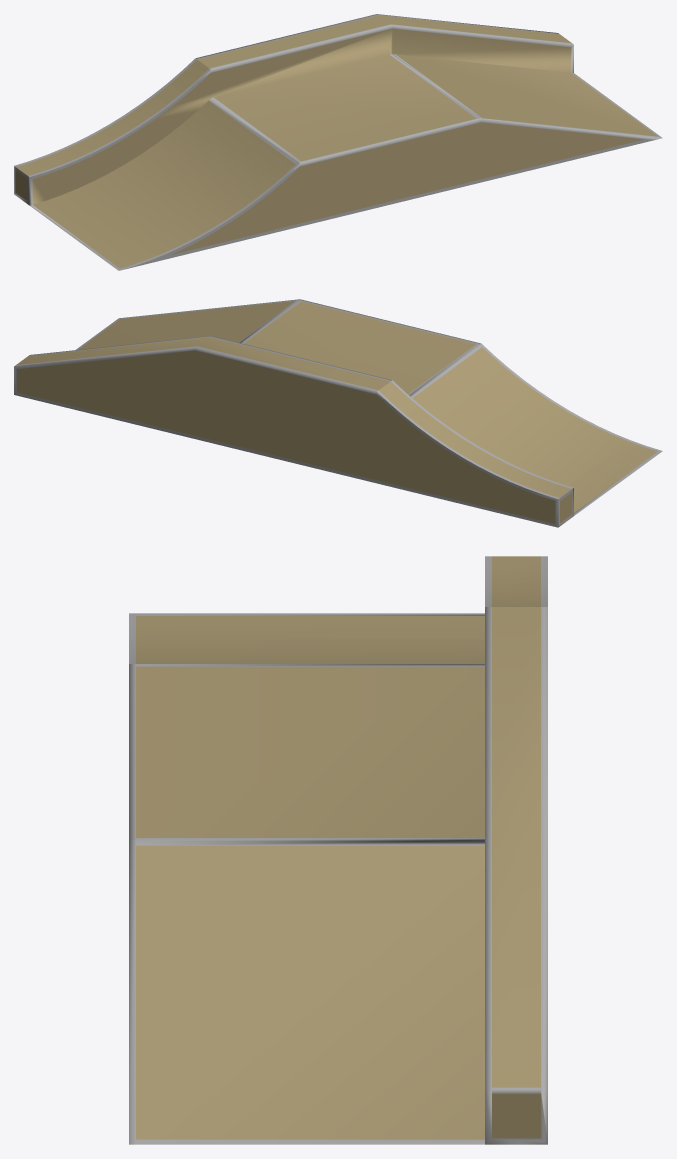
Rendered from Ramp.fbx.
3 views of the same model, one above another, from view 1: azimuth 30°, elevation 25°; view 2: azimuth 150°, elevation 25°; view 3: azimuth 270°, elevation 25° (orthographic). The views are drawn at different scales.
Parts seen in each view (by area): view 1: Model; view 2: Model; view 3: Model.
Part boxes in pixels (<box>): Model: <box>14,14,662,270</box>; Model: <box>14,299,662,527</box>; Model: <box>129,556,547,1144</box>.
Bounding box in the file's own units: 914 × 147 × 305.
